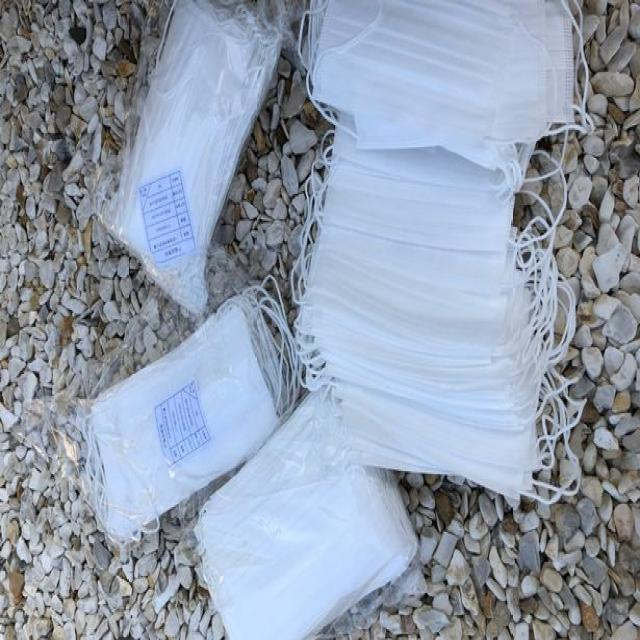non-organic waste: (283, 0, 561, 512), (77, 271, 293, 558)
